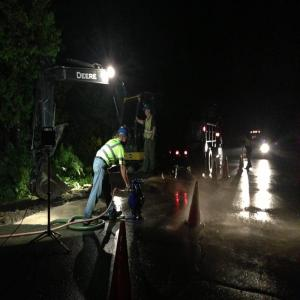blue: (118, 125, 130, 145), (144, 103, 153, 119)
